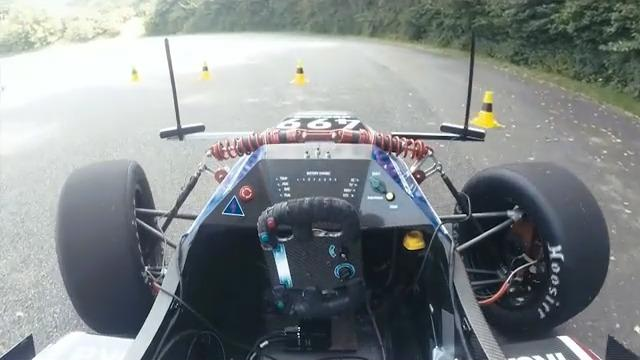yellow_cone: (470, 91, 502, 129), (292, 60, 309, 86)
